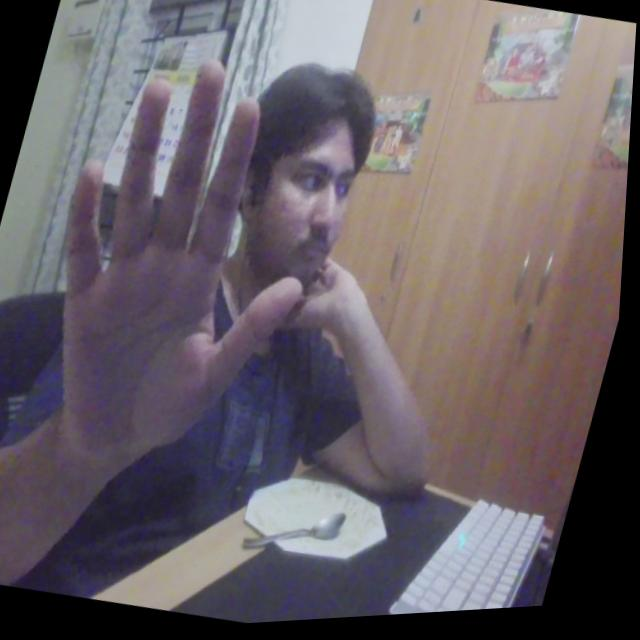hello: (0, 29, 368, 517)
